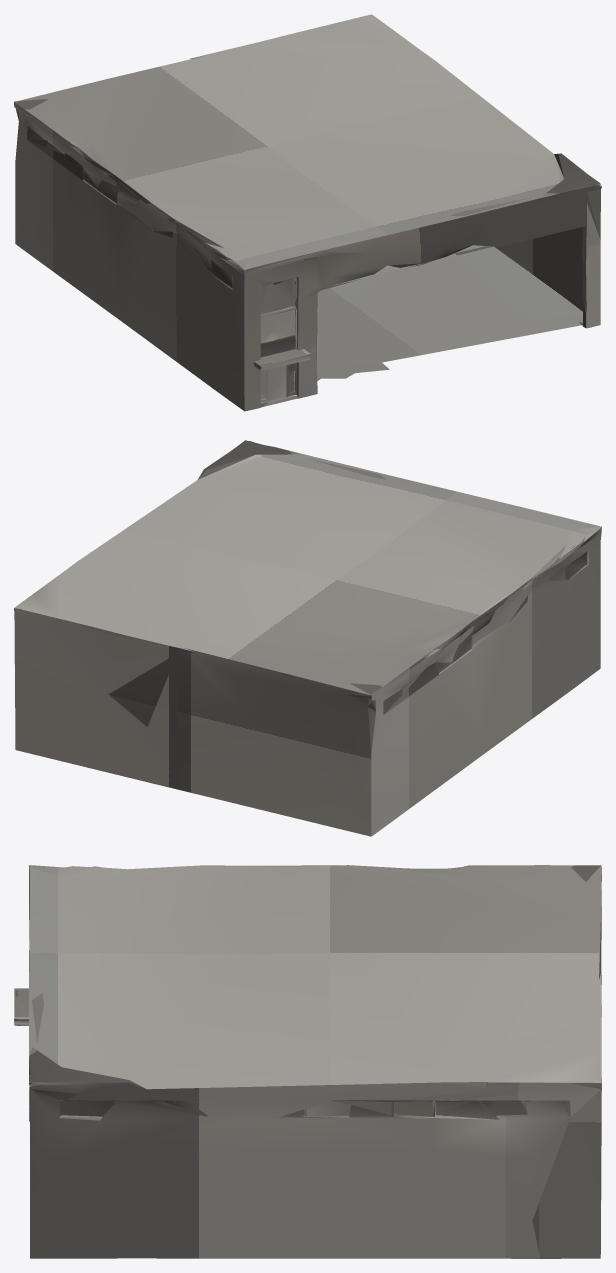
Rendered from hangar_exec.glb.
3 views of the same model, one above another, from view 1: azimuth 30°, elevation 25°; view 2: azimuth 150°, elevation 25°; view 3: azimuth 270°, elevation 25° (orthographic). The views are drawn at different scales.
Visible parts, largest first — view 1: LO; view 2: LO; view 3: LO.
Part boxes in pixels (box(x1,y1,x2,y2)): LO: box(14, 14, 601, 411); LO: box(14, 440, 601, 836); LO: box(14, 865, 601, 1258).
Size of the model in its own units: 21 by 8 by 24.
1 material, 1 textured.
